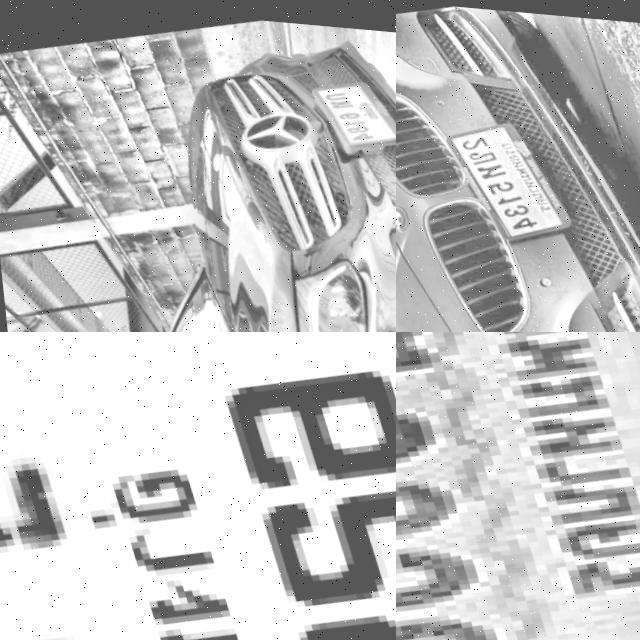license-plate: (0, 332, 396, 640), (396, 332, 640, 640), (436, 105, 577, 251), (299, 58, 396, 154)
